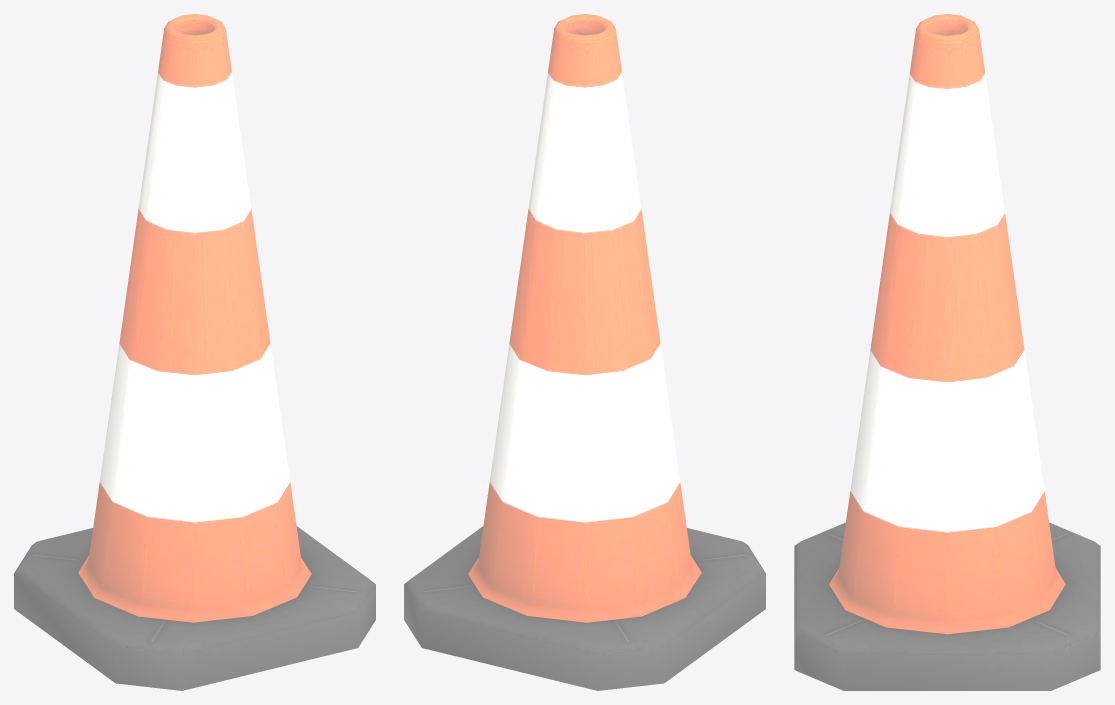
Rendered from traffic_cone.glb.
The picture shows the model from 3 angles, left to right: view 1: azimuth 30°, elevation 25°; view 2: azimuth 150°, elevation 25°; view 3: azimuth 270°, elevation 25°; orthographic projection.
Visible parts, largest first — view 1: traffic_cone; view 2: traffic_cone; view 3: traffic_cone.
Part boxes in pixels (box(x1,y1,x2,y2)): traffic_cone: box(14, 14, 375, 690); traffic_cone: box(404, 14, 765, 690); traffic_cone: box(794, 14, 1100, 690).
Bounding box in the file's own units: 0.3464 × 0.75 × 0.3464.
Materials: 1 (1 with a texture image).
